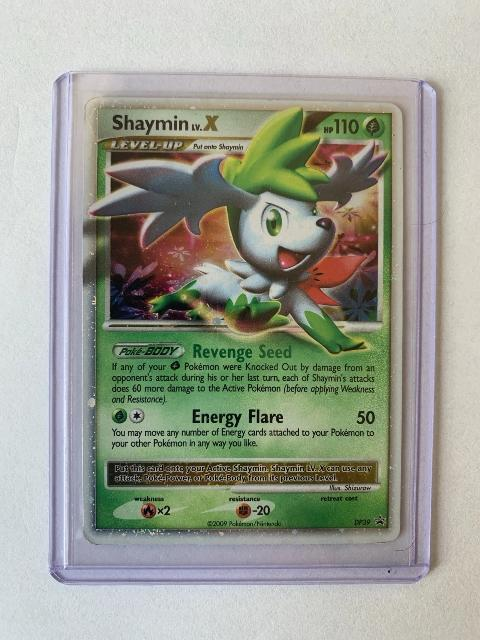Card: (81, 93, 408, 548)
Name: (108, 108, 226, 137)
